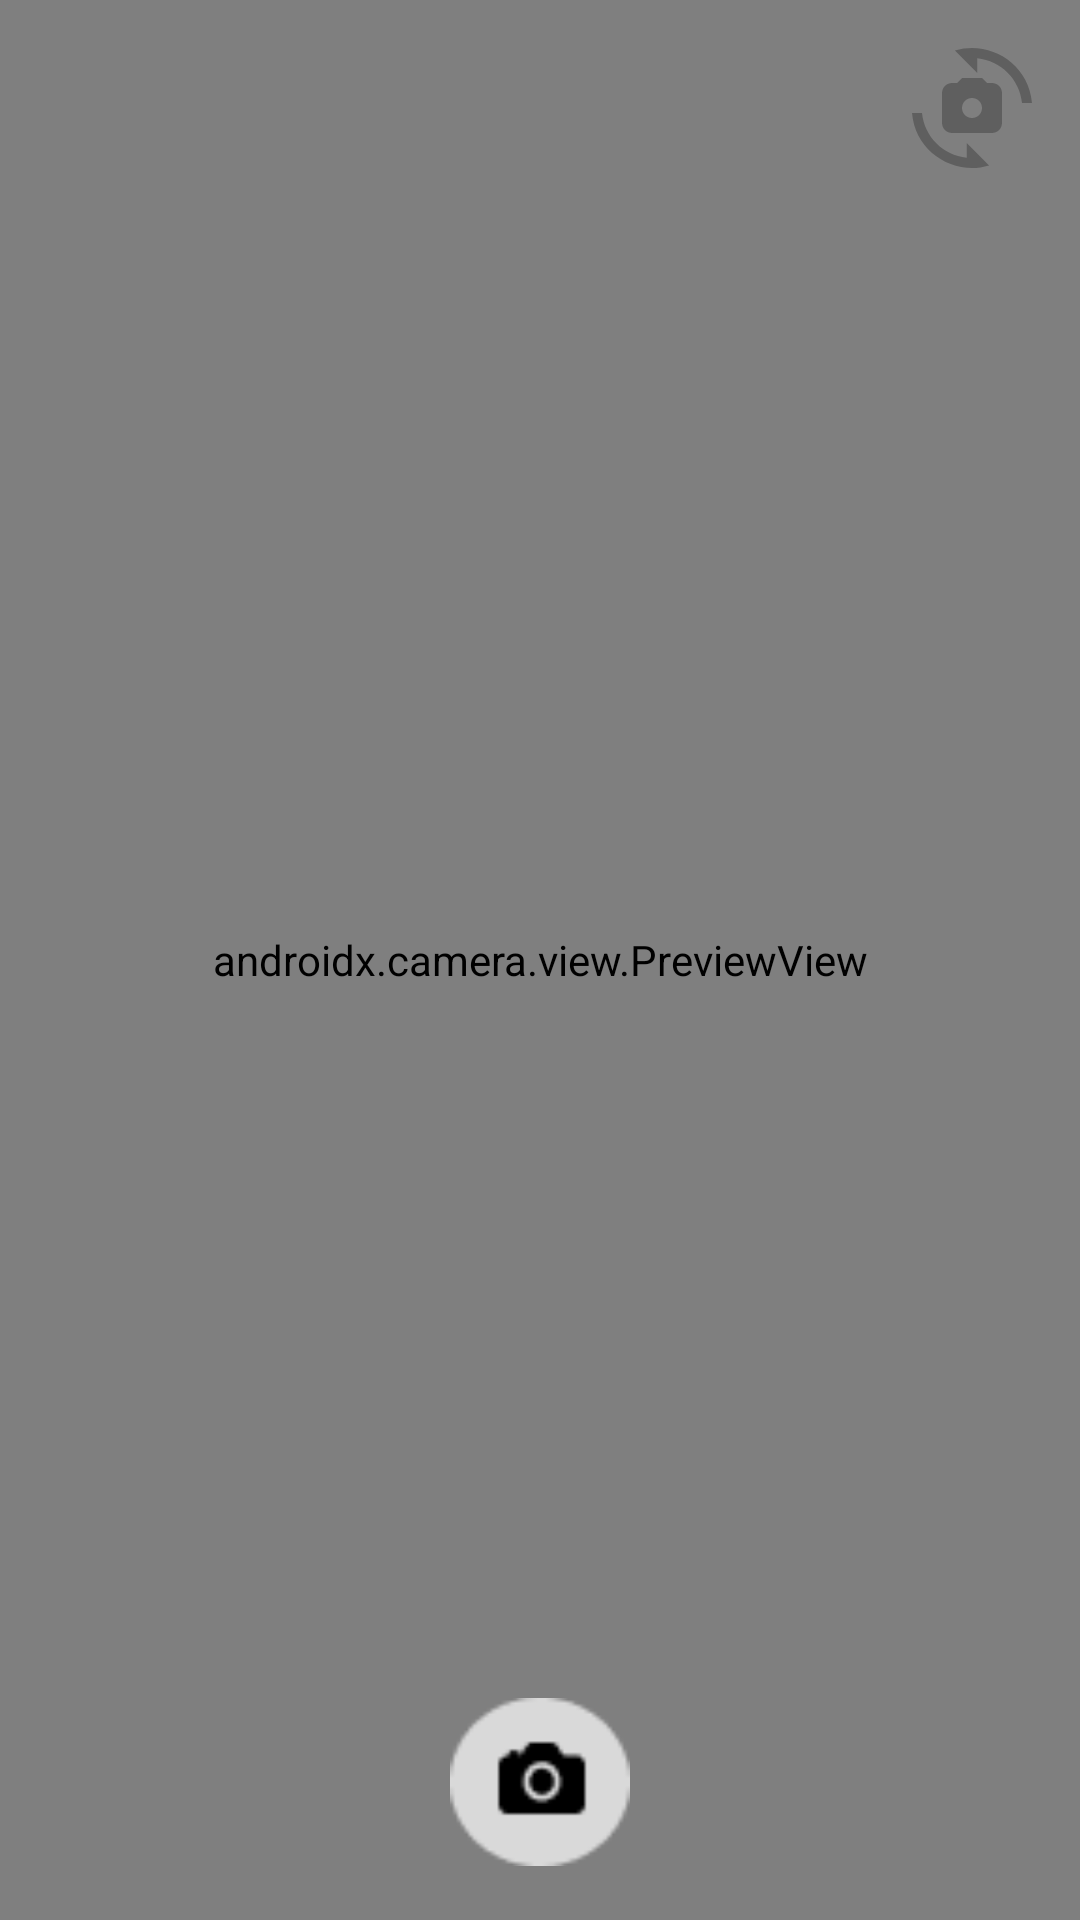

Named icons in this screenshot (1080×1920) and their bounding boxes, [x1=x1, y1=y1, x2=x2, y2=y2]:
cameraswitch: [x1=912, y1=48, x2=1032, y2=168]
potret: [x1=450, y1=1698, x2=630, y2=1866]
